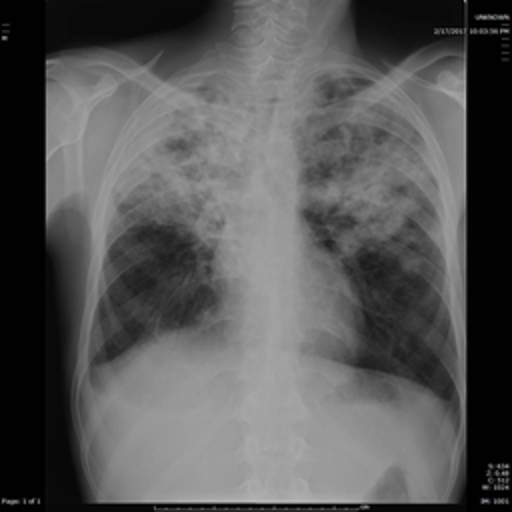TB: (319, 97, 417, 249), (122, 94, 231, 230)
